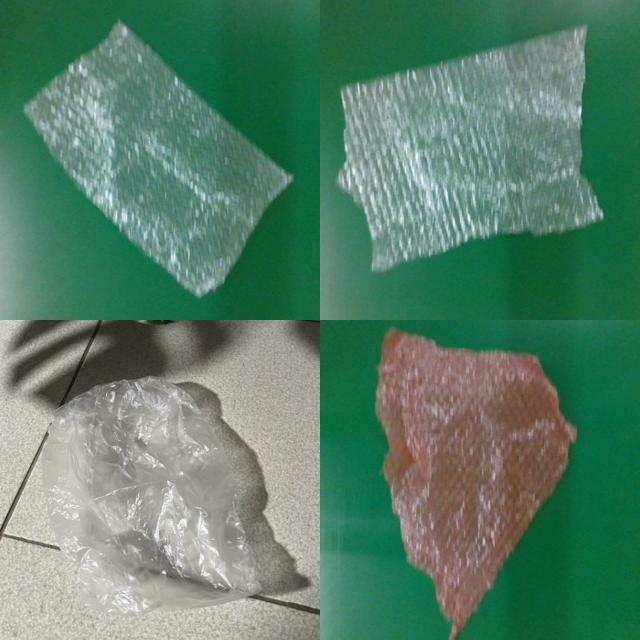Single-layer Plastic: (24, 21, 292, 296), (338, 26, 602, 271), (376, 329, 576, 639), (42, 376, 260, 614)
